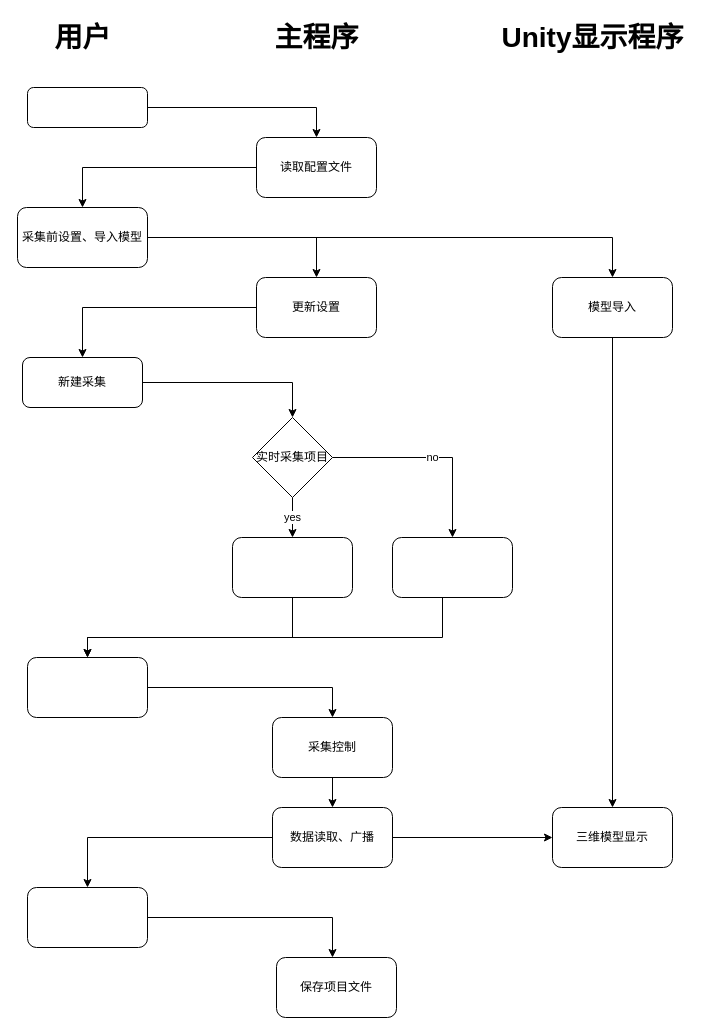
The diagram is 701 pixels wide and 1035 high, and some of its shapes have lost their labels. The centre of each missing label's shape, as x and y in pixels:
"保存关闭" goes at (87,917).
"开启采集" goes at (292,567).
"控制指令" goes at (87,687).
"设备连接" goes at (87,107).
"读取工程文件" goes at (452,567).
